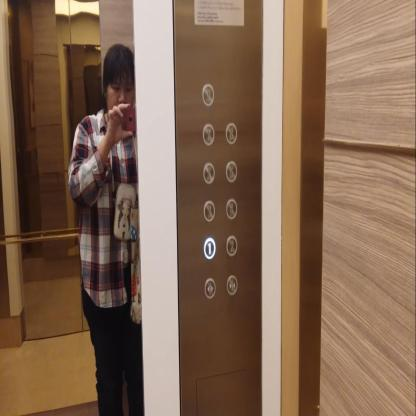1: (203, 237, 215, 259)
2: (226, 235, 237, 255)
3: (203, 200, 215, 221)
4: (226, 198, 237, 219)
5: (203, 162, 214, 183)
6: (225, 160, 237, 182)
7: (202, 122, 214, 145)
8: (225, 122, 237, 143)
9: (202, 82, 214, 106)
close: (226, 274, 237, 295)
open: (204, 277, 216, 298)
